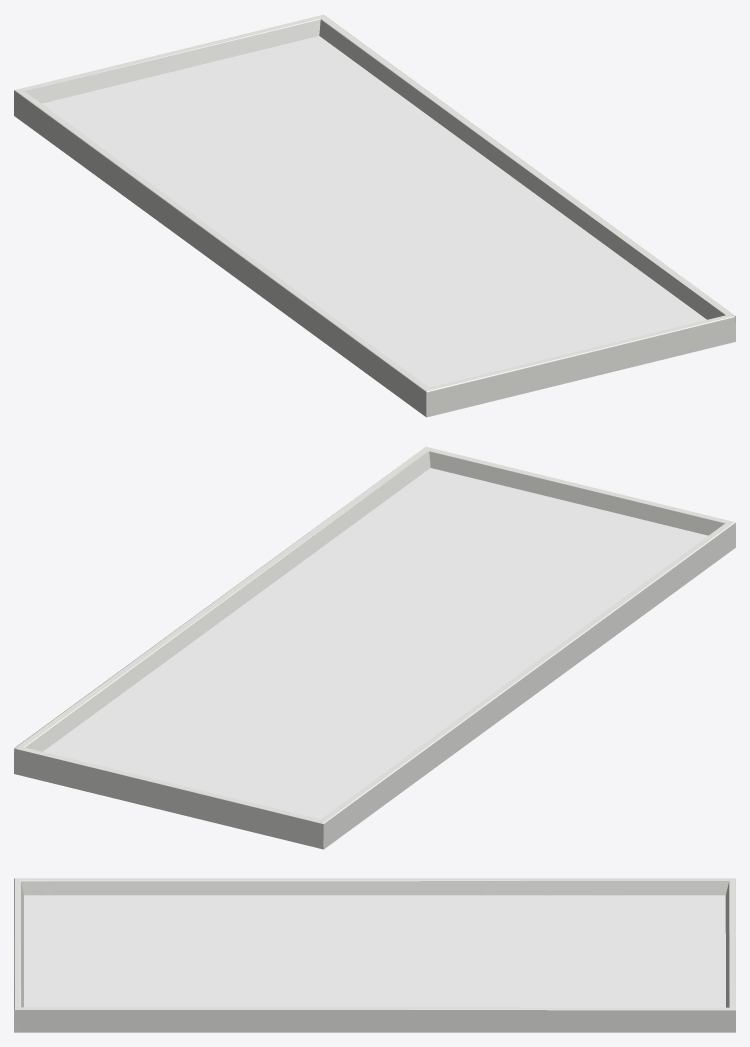
File: NISSEDAL Miroir, blanc, 65x150 cm.glb
The picture shows the model from 3 angles, top to bottom: view 1: azimuth 30°, elevation 25°; view 2: azimuth 150°, elevation 25°; view 3: azimuth 270°, elevation 25°; orthographic projection. The views are drawn at different scales.
Visible parts, largest first — view 1: 10320317-NISSEDAL001; view 2: 10320317-NISSEDAL001; view 3: 10320317-NISSEDAL001.
Boxes of the visible parts, box(x1,y1,x2,y2) form: 10320317-NISSEDAL001: box(14, 14, 735, 417); 10320317-NISSEDAL001: box(14, 446, 735, 849); 10320317-NISSEDAL001: box(14, 878, 735, 1032).
Bounding box in the file's own units: 0.65 × 0.0533 × 1.5.
1 material, 1 textured.
